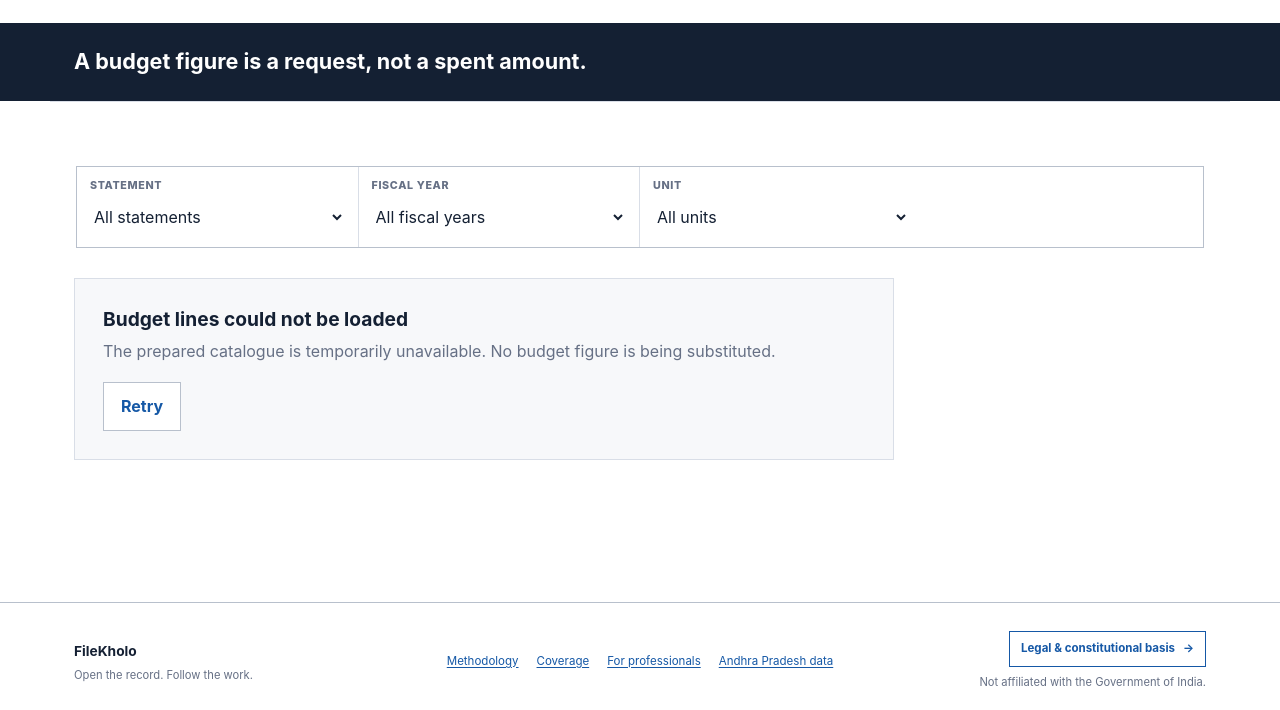
Test: BudgetDirectory › reports failures, retries, then shows filtered-empty honestly
(page scrolled)
Expected: the message shows "No budget figure is being substituted", 103,341 -> 776,361
Click the button "Retry" at point(142, 407), box 103,382 -> 181,431
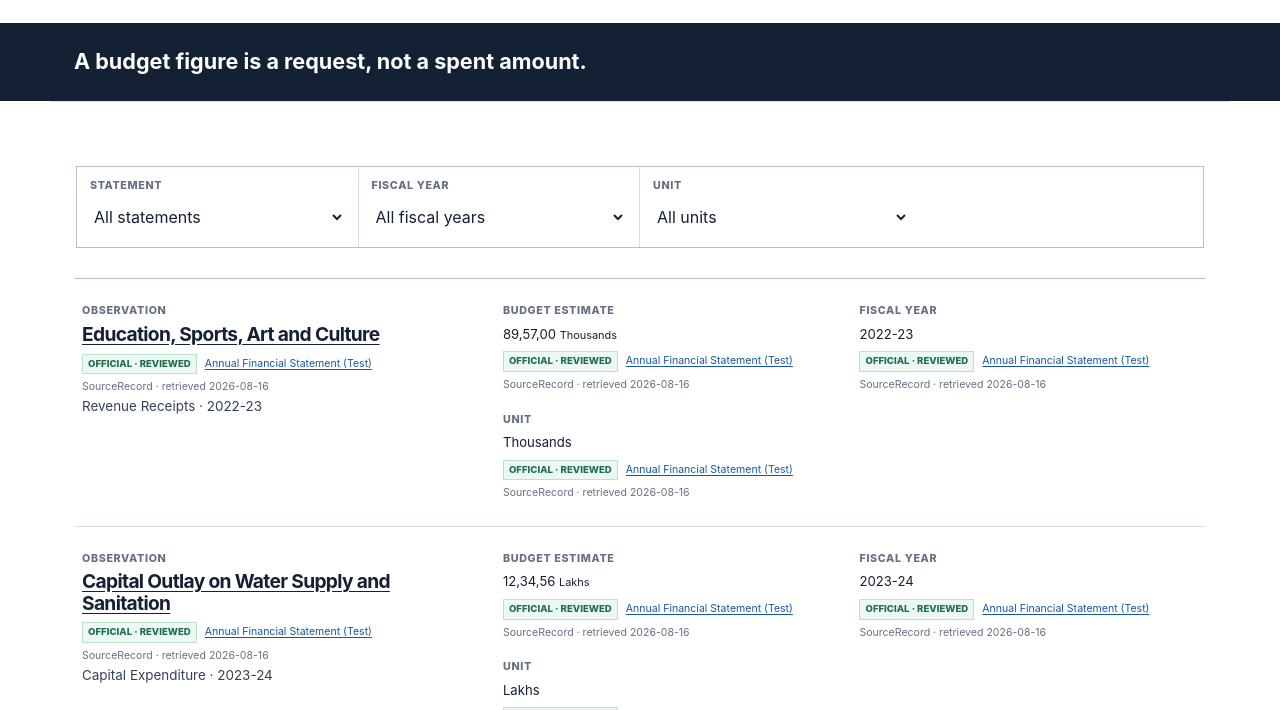
Now the heading "Education, Sports, Art and Culture" is shown, box 82,322 -> 380,346
Select "Revenue Receipts" in the dropdown labelled "Statement" at point(217, 217), box 90,198 -> 344,236
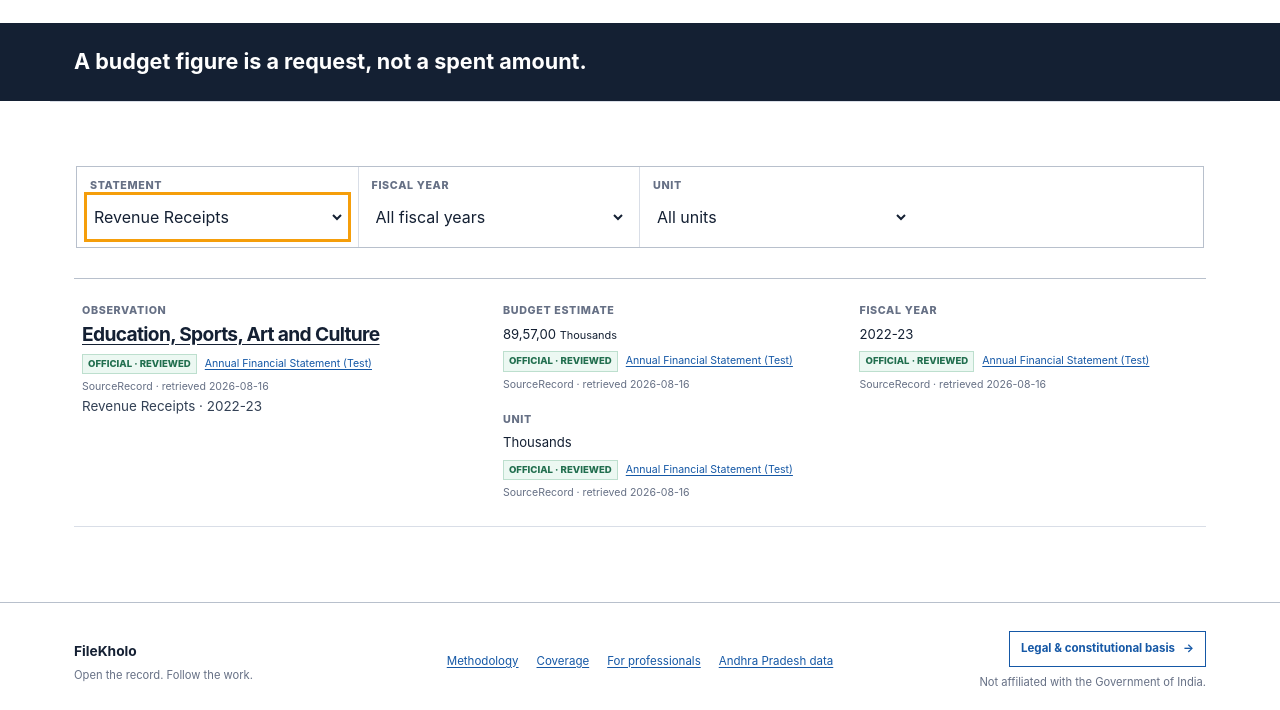
Select "2023-24" in the dropdown labelled "Fiscal year" at point(499, 217), box 372,198 -> 626,236
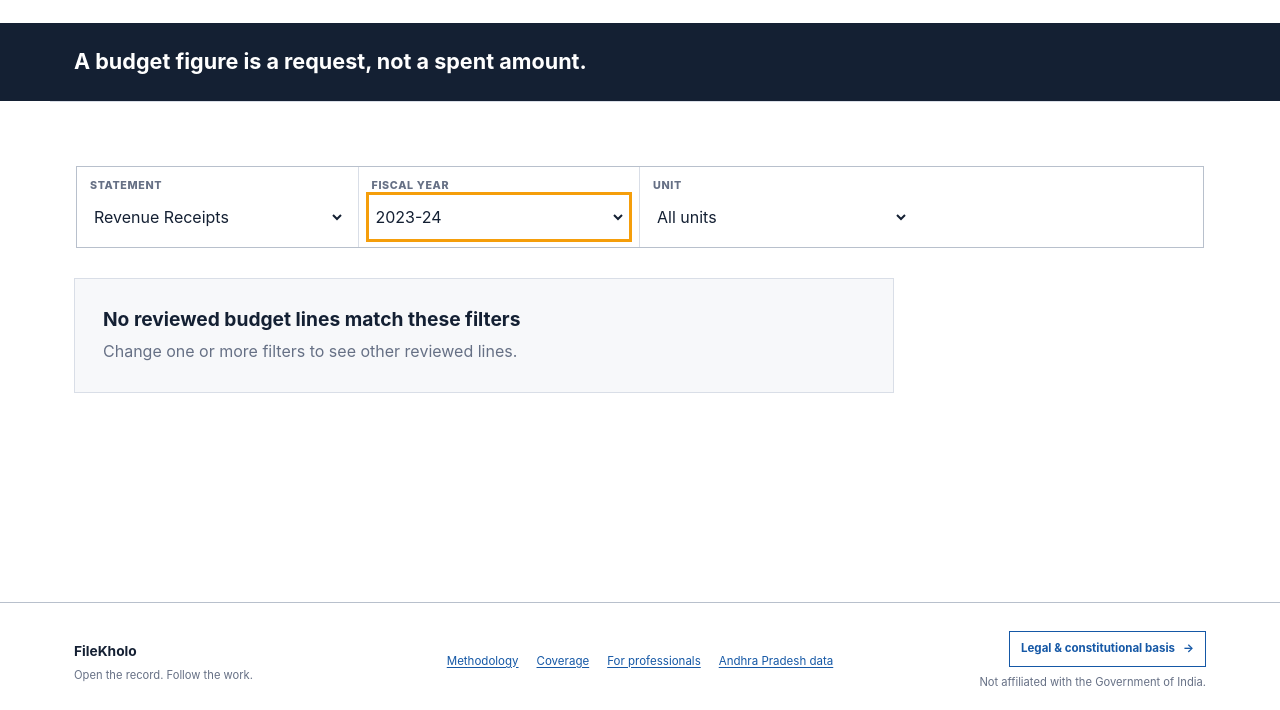
Now the heading "No reviewed budget lines match these filters" is shown, box 103,307 -> 520,331
